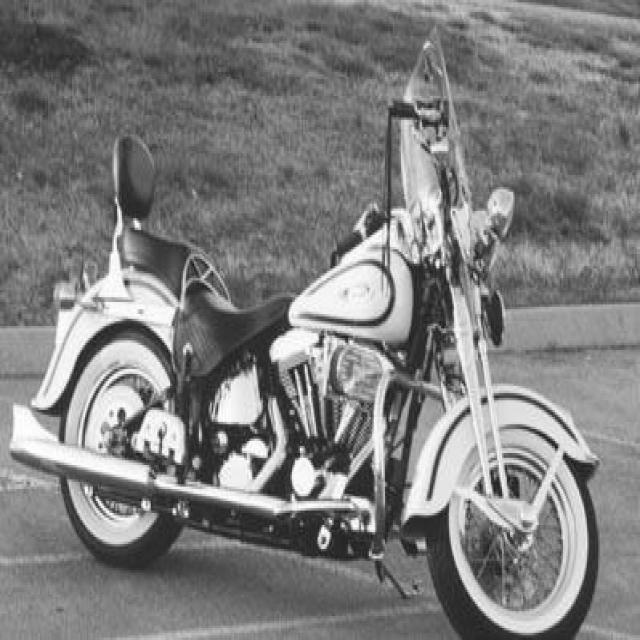Motorcycle: (13, 34, 601, 638)
